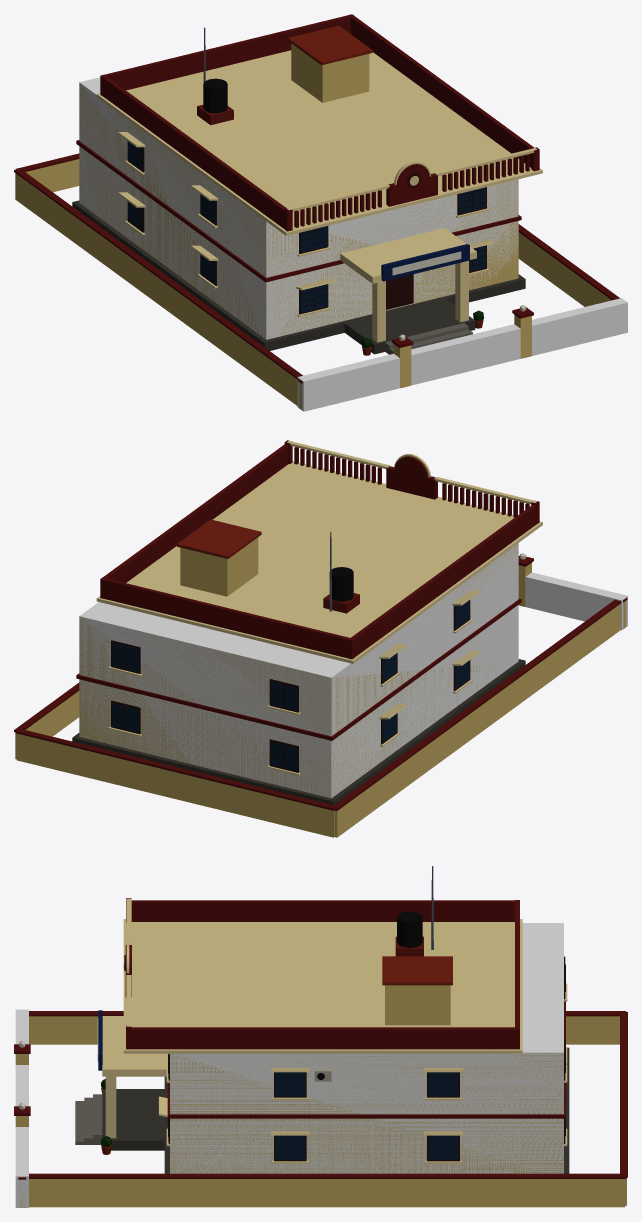
Rendered from B27_police_station.glb.
3 views of the same model, one above another, from view 1: azimuth 30°, elevation 25°; view 2: azimuth 150°, elevation 25°; view 3: azimuth 270°, elevation 25° (orthographic). The views are drawn at different scales.
Visible parts, largest first — view 1: LOD0, COL_Main, COL_Compound; view 2: LOD0, COL_Main, COL_Compound; view 3: LOD0, COL_Main, COL_Compound.
Boxes of the visible parts, left/top/right/bottom form: LOD0: left=14, top=14, right=619, bottom=409; COL_Main: left=79, top=77, right=518, bottom=339; COL_Compound: left=297, top=298, right=627, bottom=411; LOD0: left=14, top=440, right=627, bottom=837; COL_Main: left=79, top=543, right=518, bottom=798; COL_Compound: left=525, top=572, right=627, bottom=630; LOD0: left=14, top=866, right=627, bottom=1207; COL_Main: left=170, top=923, right=563, bottom=1173; COL_Compound: left=15, top=1009, right=28, bottom=1207.
Size of what is drawn, in the model's own units: 18.08 by 11.4 by 28.06.
